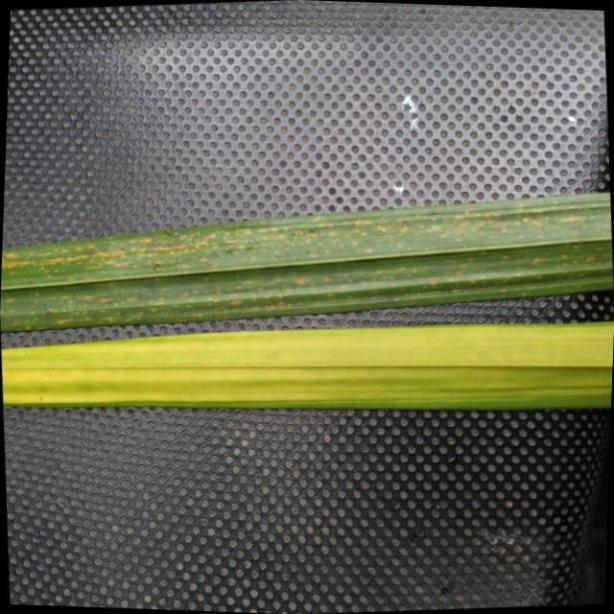nitrogen: (0, 190, 614, 331), (0, 321, 614, 411)
